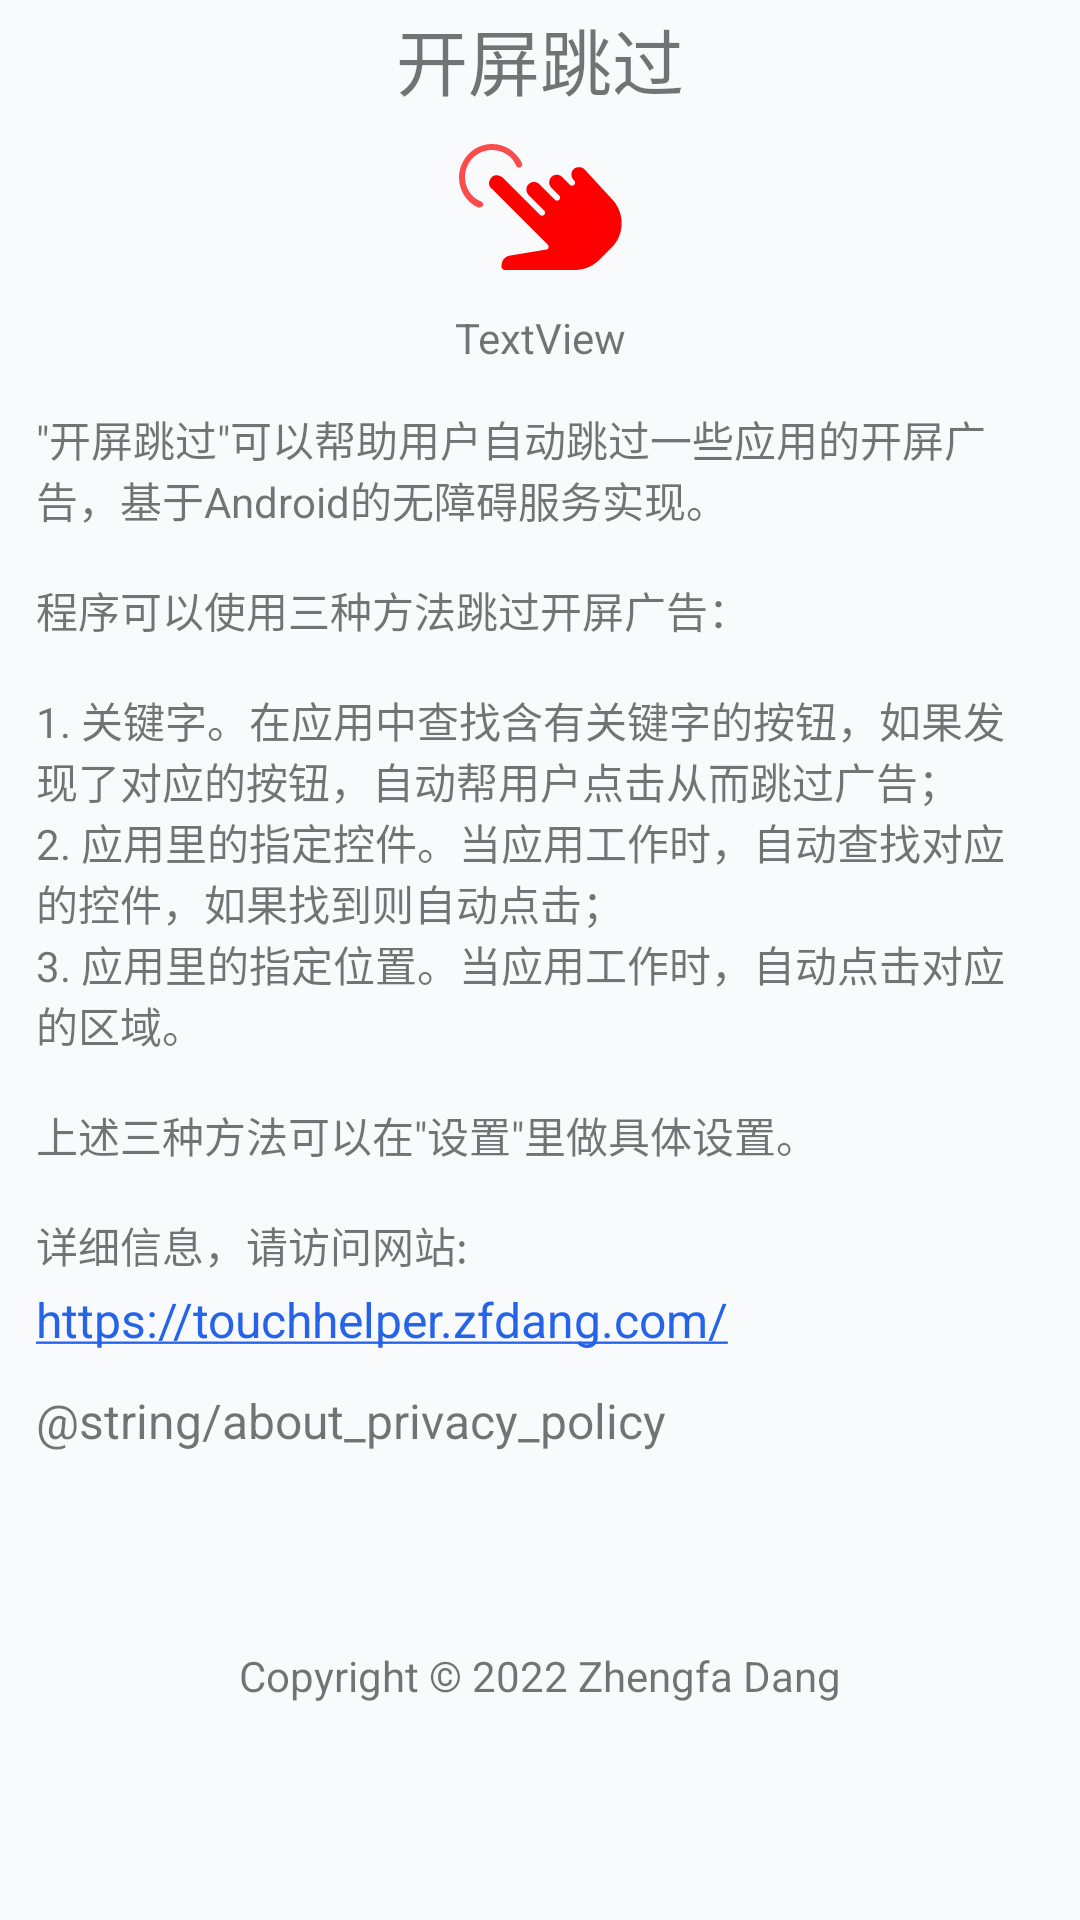

Where icons sit on this 1080*1920 app screen, as (x1, y1, x2, y2):
touch helper: (459, 144, 622, 270)
